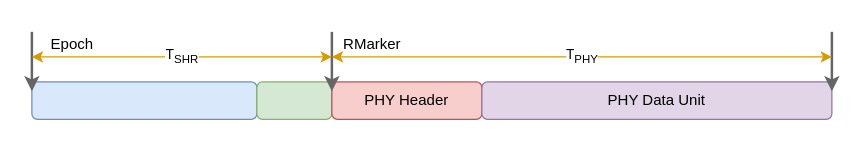
Some shapes in this 865 by 141 pixel diagram are drawn without their labels. The box of each missing label's shape, as (x1, y1, x2, y2) in pixels:
Preamble: (31, 81, 257, 119)
SFD: (256, 81, 332, 119)
